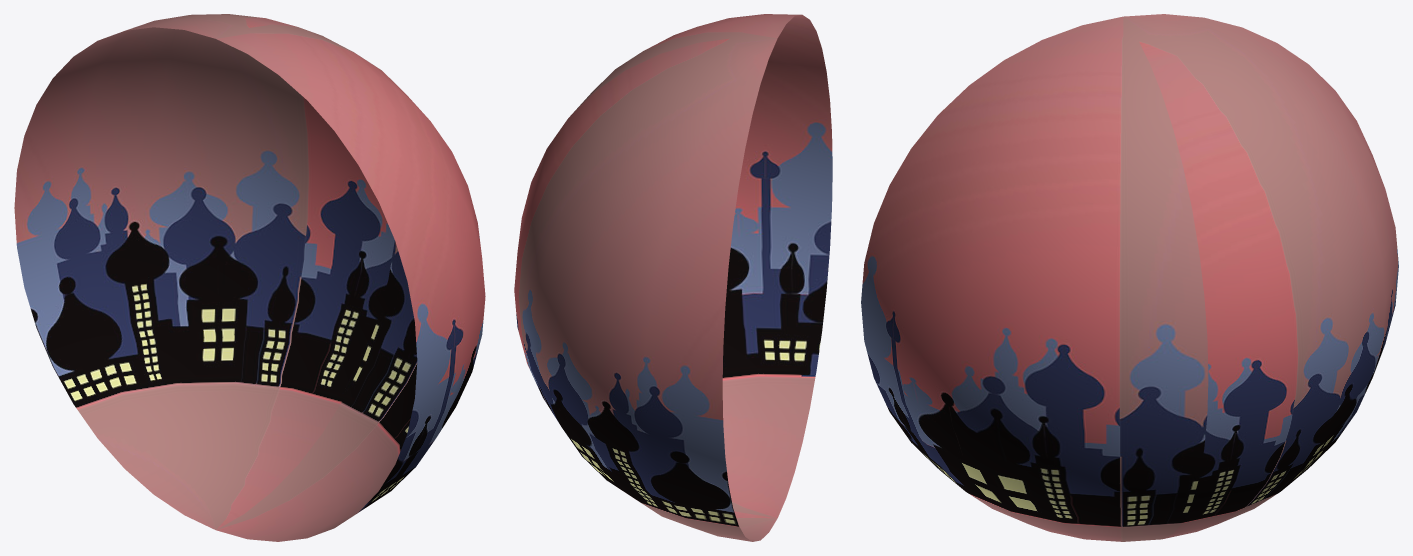
File: underground skyline 3.fbx
3 renders of one model, left to right at view 1: azimuth 30°, elevation 25°; view 2: azimuth 150°, elevation 25°; view 3: azimuth 270°, elevation 25°, orthographic. The views are drawn at different scales.
Visible parts, largest first — view 1: pSphere2; view 2: pSphere2; view 3: pSphere2.
Boxes of the visible parts, x1,y1,x2,y2 form: pSphere2: (14, 14, 485, 541); pSphere2: (514, 14, 832, 541); pSphere2: (861, 14, 1398, 541).
Bounding box in the file's own units: 1.31 × 2 × 1.95.
Materials: 1 (1 with a texture image).
